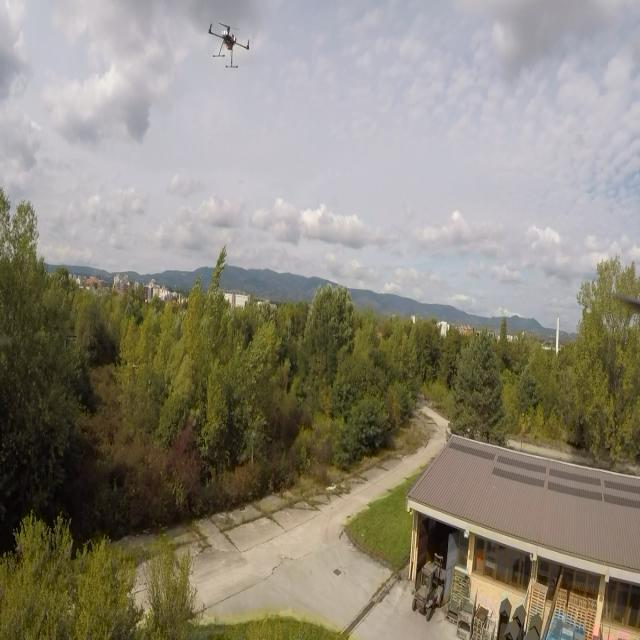UAV: (201, 16, 259, 74)
